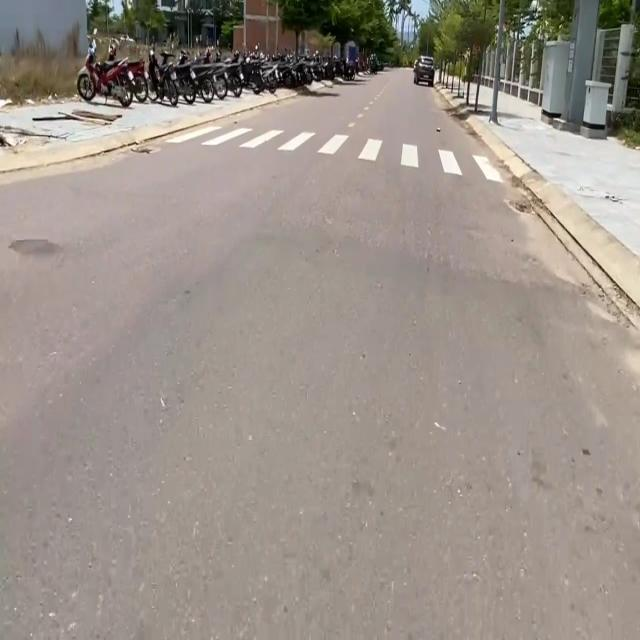walk-crossing: (185, 119, 508, 180)
